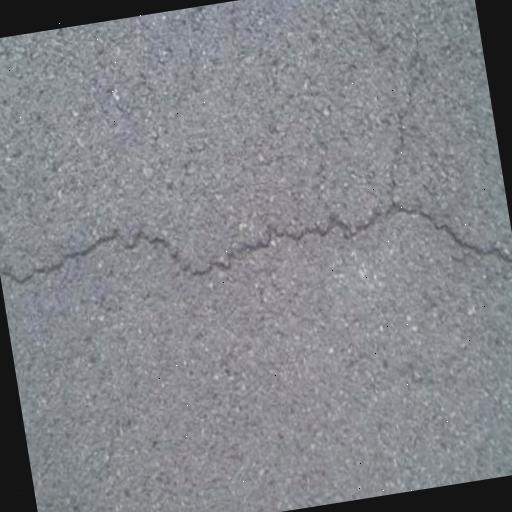spalling: (7, 190, 509, 302)
